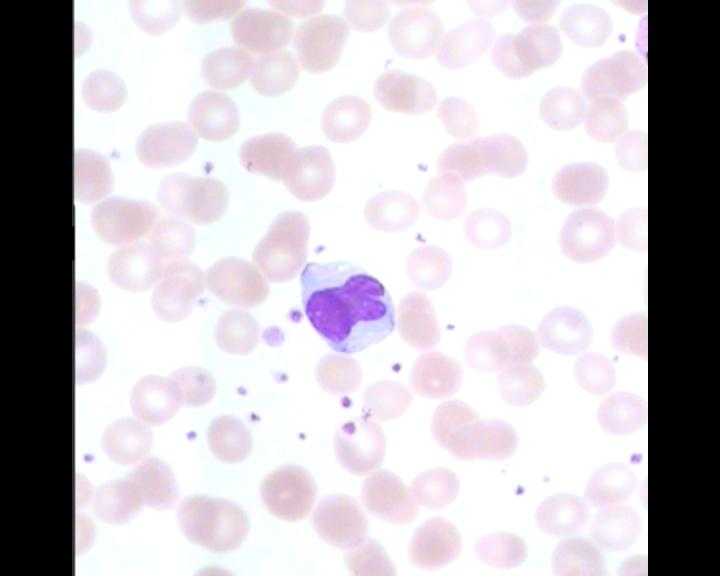mono: (300, 251, 398, 360)
